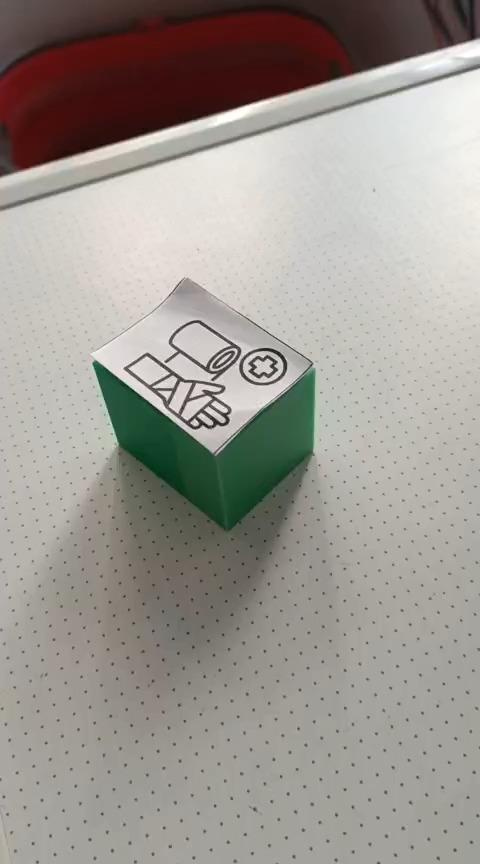Bandages: (93, 277, 315, 529)
